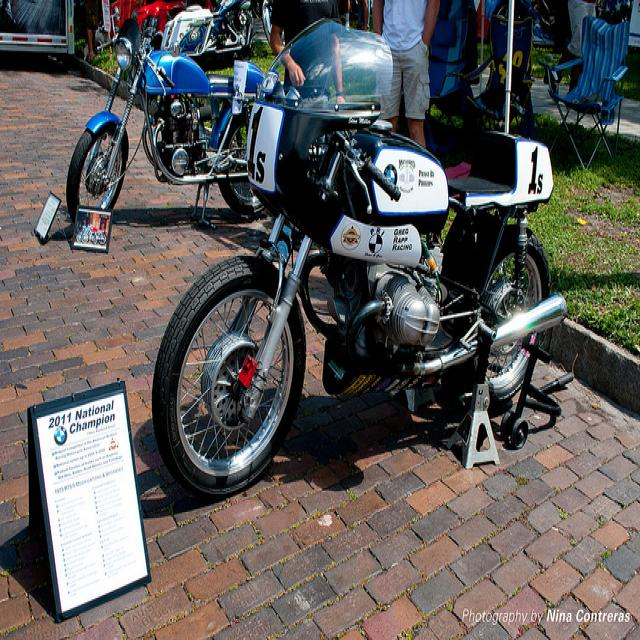motor: (150, 16, 576, 496), (65, 16, 266, 230)
